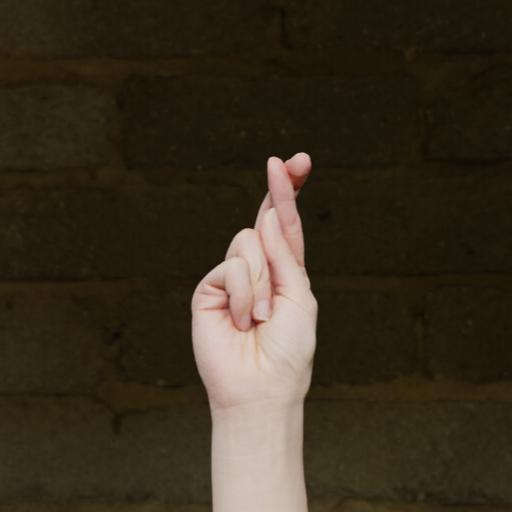R: (171, 134, 351, 446)
